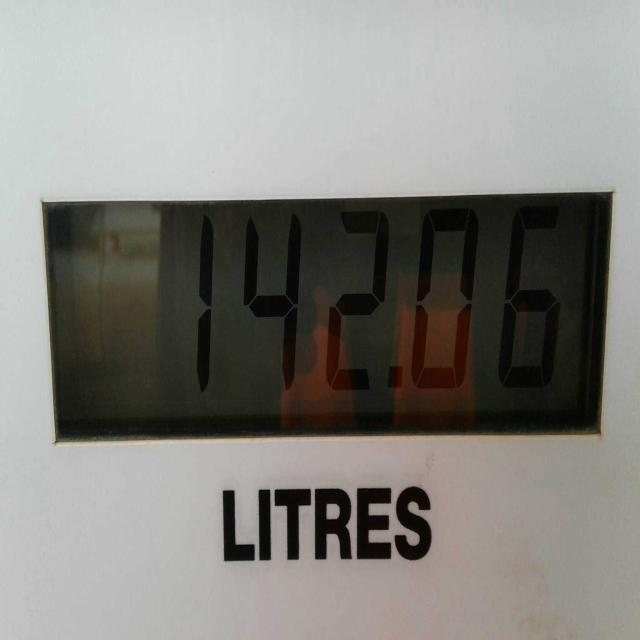.: (388, 363, 403, 395)
0: (419, 198, 470, 396)
1: (199, 213, 217, 395)
2: (329, 214, 385, 391)
4: (242, 217, 300, 394)
6: (504, 203, 562, 399)
